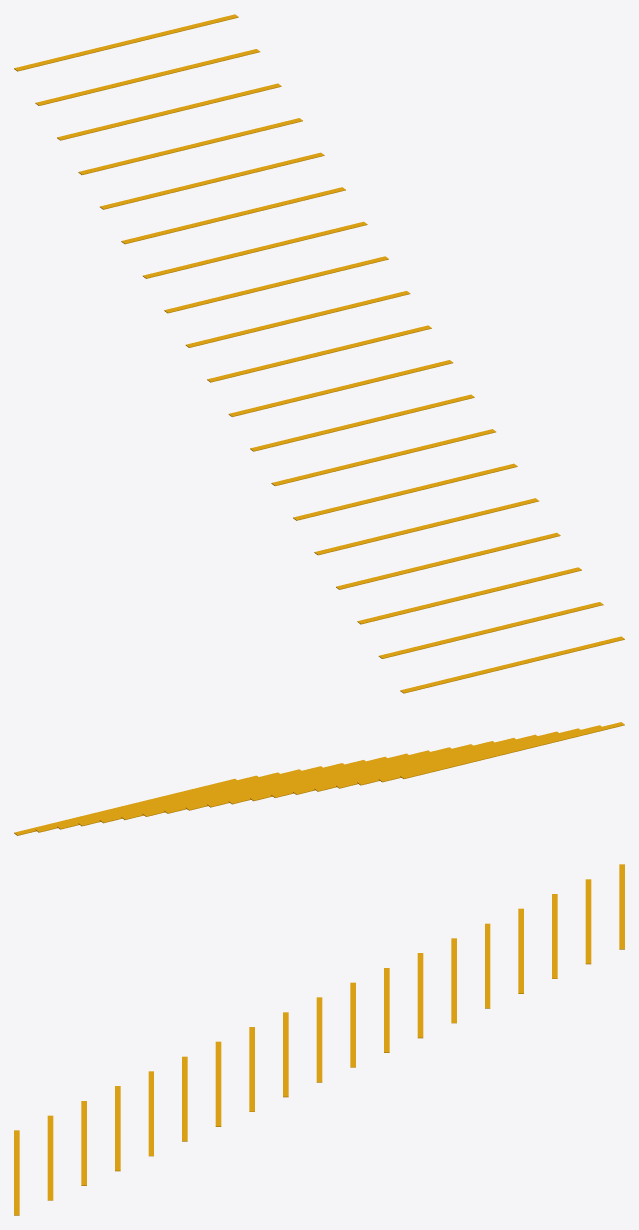
Rendered from gteki_ik_stair_n19_r159_t328_w1968_nosing.glb.
3 renders of one model, top to bottom at view 1: azimuth 30°, elevation 25°; view 2: azimuth 210°, elevation 25°; view 3: azimuth 270°, elevation 25°, orthographic. The views are drawn at different scales.
Parts seen in each view (by area): view 1: VIS_body; view 2: VIS_body; view 3: VIS_body.
Boxes of the visible parts, x1,y1,x2,y2 form: VIS_body: (14,14,624,693); VIS_body: (14,722,624,835); VIS_body: (14,864,624,1215).
Size of the model in its own units: 1.95 by 2.87 by 5.96.
1 material, 1 textured.
